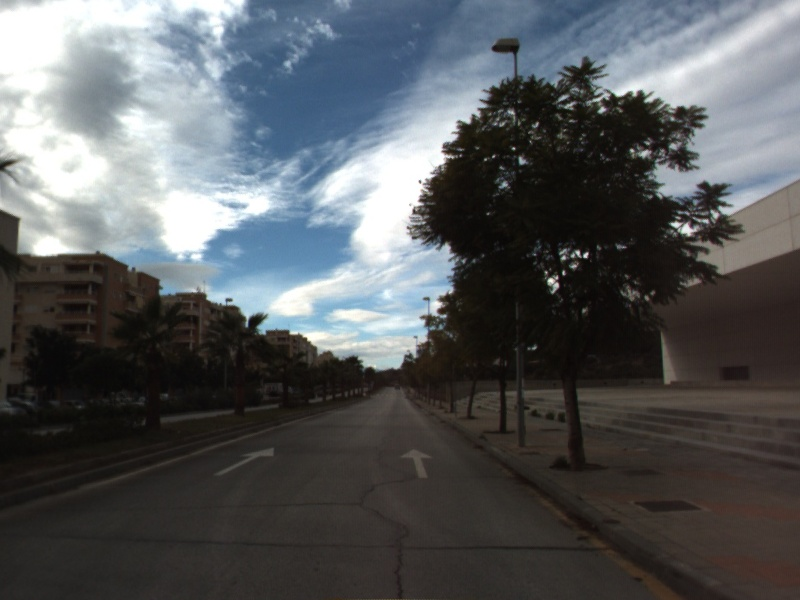STRAIGHT: (212, 445, 276, 477), (398, 447, 435, 480)
